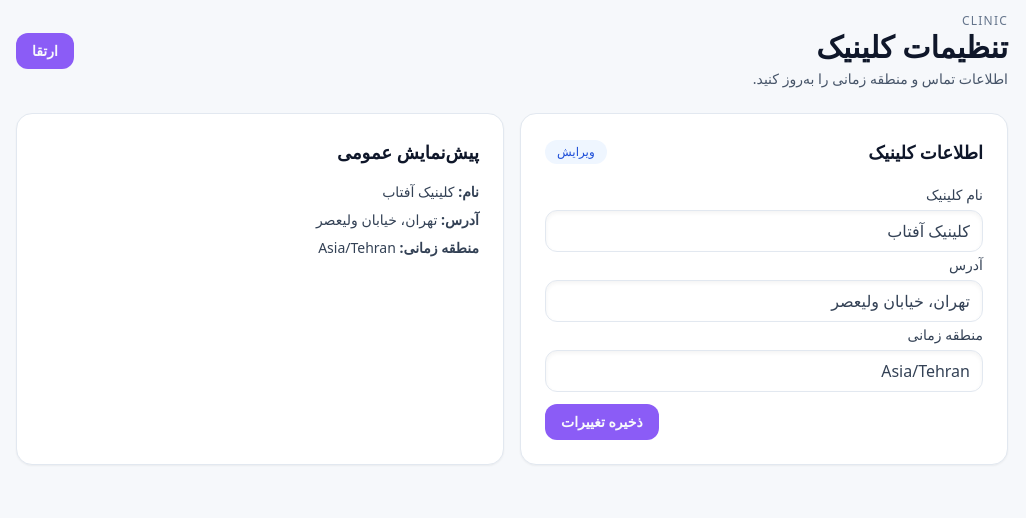
it: Clinic and staff flows › submits clinic form and updates cache
This screenshot has width=1026, height=518.
Expected: the heading "اطلاعات کلینیک" is shown, [868,138,983,166]
Replace the text in the field showing "کلینیک آفتاب" with "کلینیک سیمرغ" at (764, 231), box [545,210,983,252]
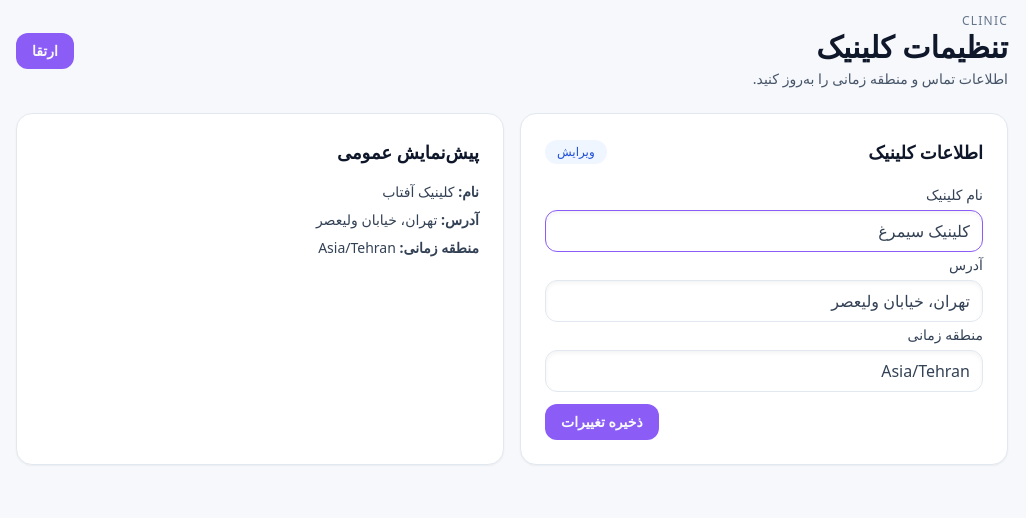
Type "اصفهان، میدان نقش جهان" into the field with placeholder "تهران، خیابان ..." at (764, 301), box [545,280,983,322]
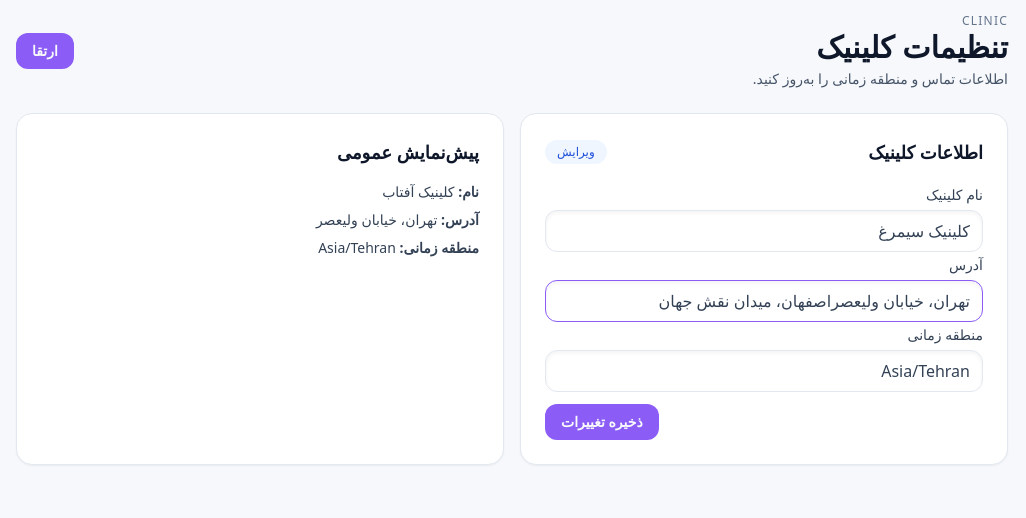
Click the button "ذخیره تغییرات" at (602, 422), box [545,404,659,440]
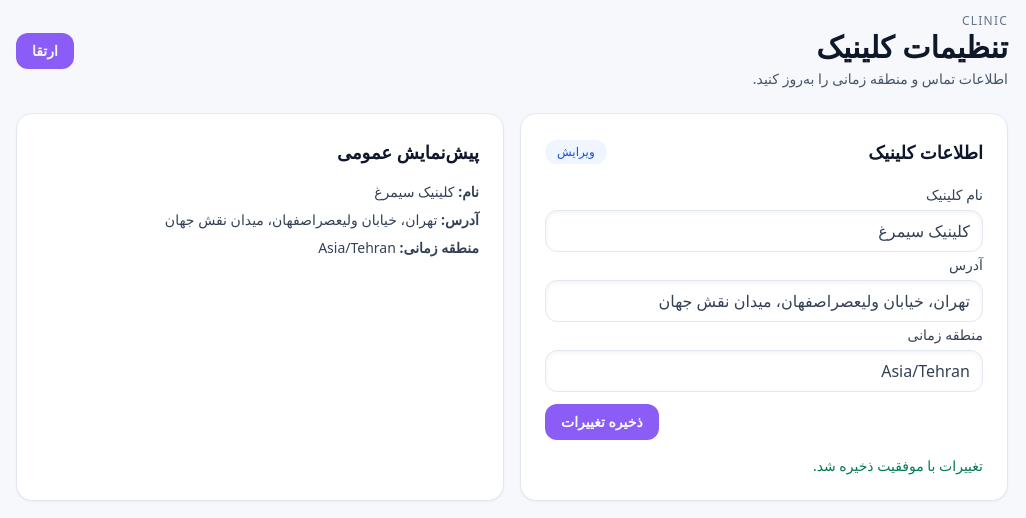
Expected: the text "تغییرات با موفقیت ذخیره شد." is shown, [813,456,983,475]
